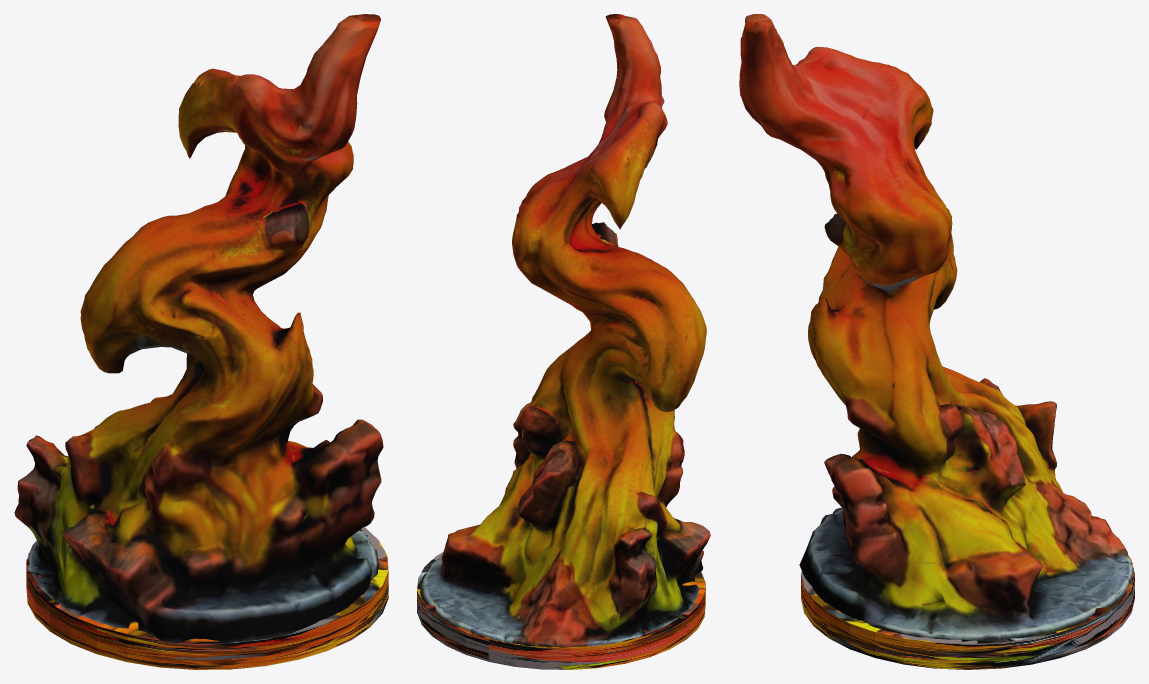
Rendered from construct-1.glb.
3 renders of one model, left to right at view 1: azimuth 30°, elevation 25°; view 2: azimuth 150°, elevation 25°; view 3: azimuth 270°, elevation 25°, orthographic. The views are drawn at different scales.
Parts seen in each view (by area): view 1: default (×2); view 2: default (×2); view 3: default (×2).
Boxes of the visible parts, x1=… form: default (×2): x1=14, y1=14, x2=388, y2=669; default (×2): x1=417, y1=14, x2=710, y2=669; default (×2): x1=739, y1=14, x2=1134, y2=669.
Bounding box in the file's own units: 1.38 × 2.71 × 1.63.
Materials: 2 (2 with a texture image).
